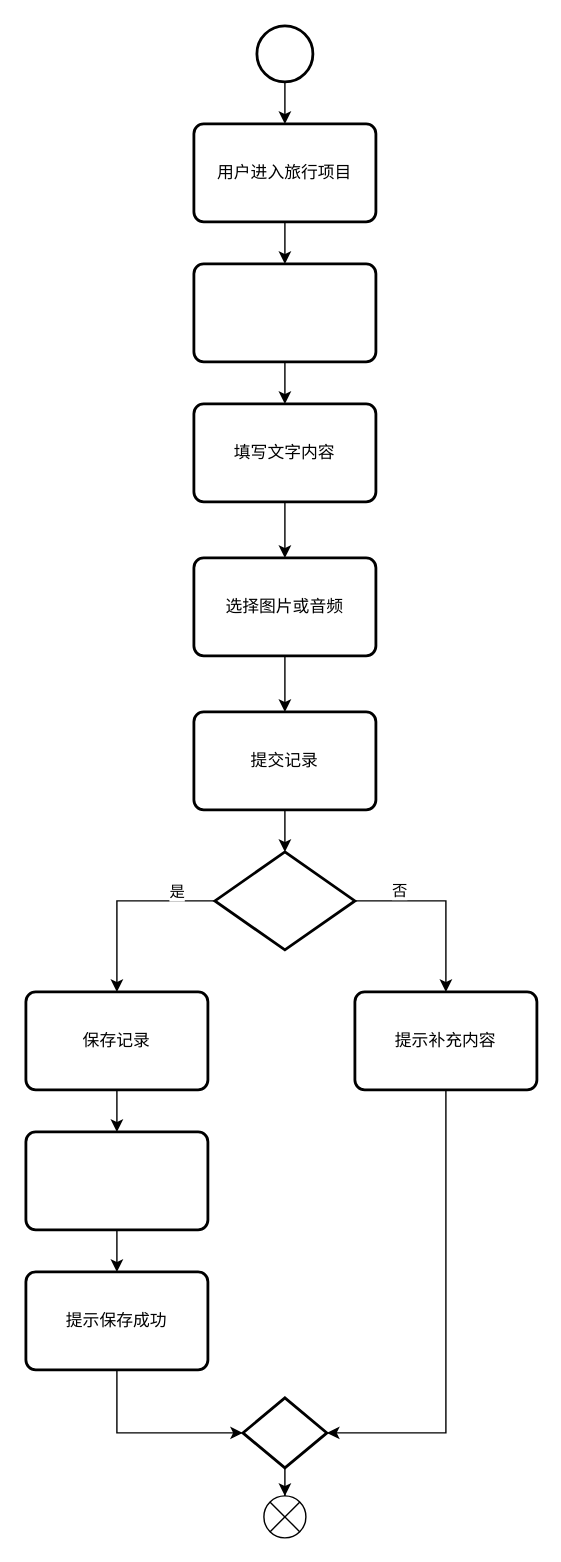
Image size: 561x1562. Some labels were removed from this diagram. The shapes that lost their labels are listed below. From the top down, each one's centre as x and y in pixels, then its label:
At pixel 284 312: "点击新增记录".
At pixel 284 900: "内容是否完整".
At pixel 116 1180: "更新内容列表".
